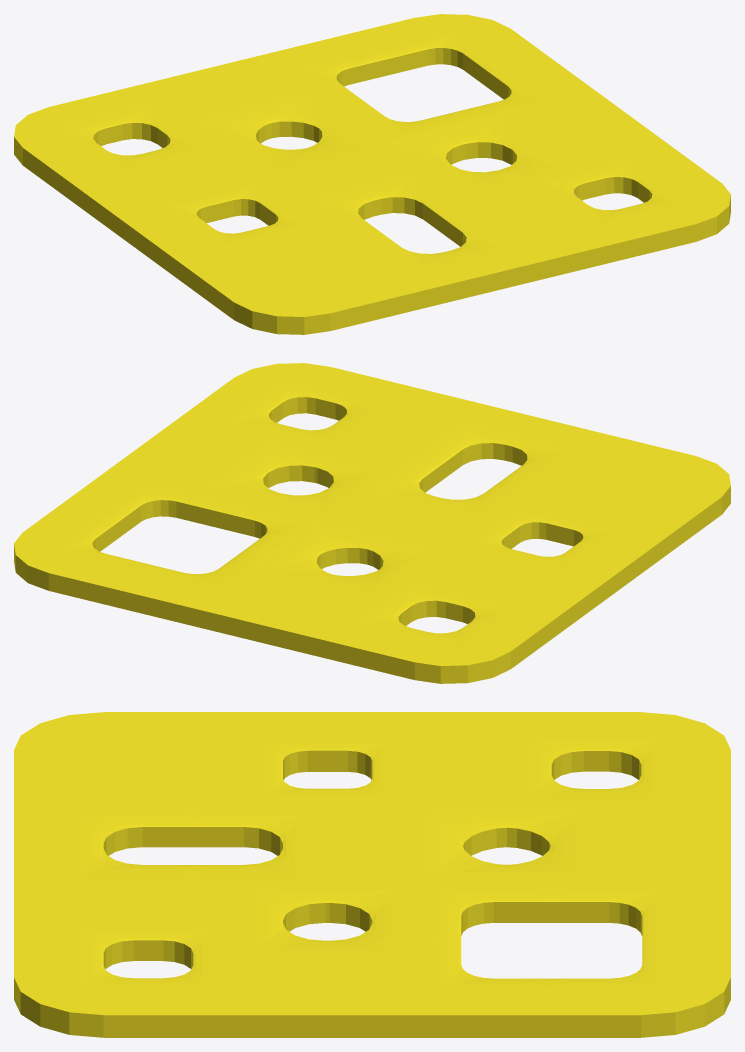
The model's file is hamburger peynir.fbx.
3 views of the same model, one above another, from view 1: azimuth 30°, elevation 25°; view 2: azimuth 150°, elevation 25°; view 3: azimuth 270°, elevation 25° (orthographic). The views are drawn at different scales.
Visible parts, largest first — view 1: Cube.001; view 2: Cube.001; view 3: Cube.001.
Part boxes in pixels (<box>): Cube.001: <box>14,14,730,334</box>; Cube.001: <box>14,363,730,683</box>; Cube.001: <box>14,712,730,1037</box>.
Bounding box in the file's own units: 40 × 1.41 × 40.
